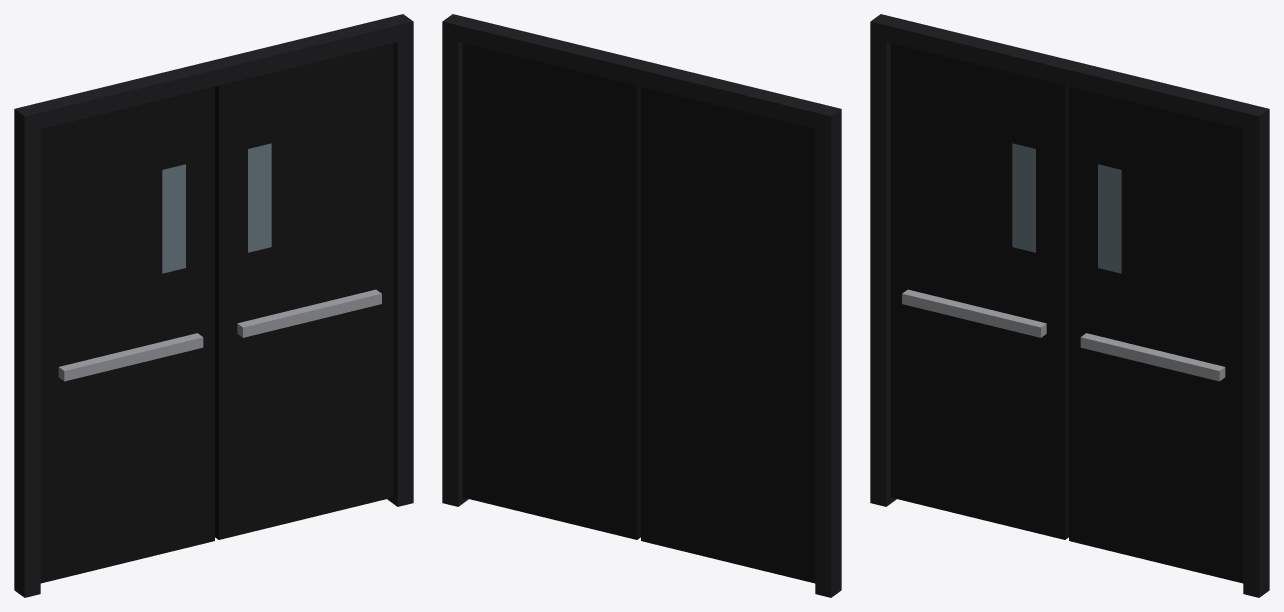
The model's file is theater_door.glb.
3 renders of one model, left to right at view 1: azimuth 30°, elevation 25°; view 2: azimuth 150°, elevation 25°; view 3: azimuth 330°, elevation 25°, orthographic.
Bounding box in the file's own units: 1.96 × 2.32 × 0.125.
